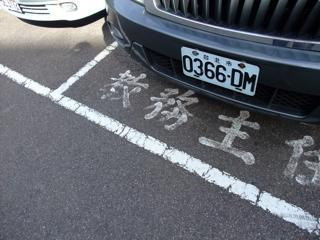plate: (178, 42, 260, 99)
